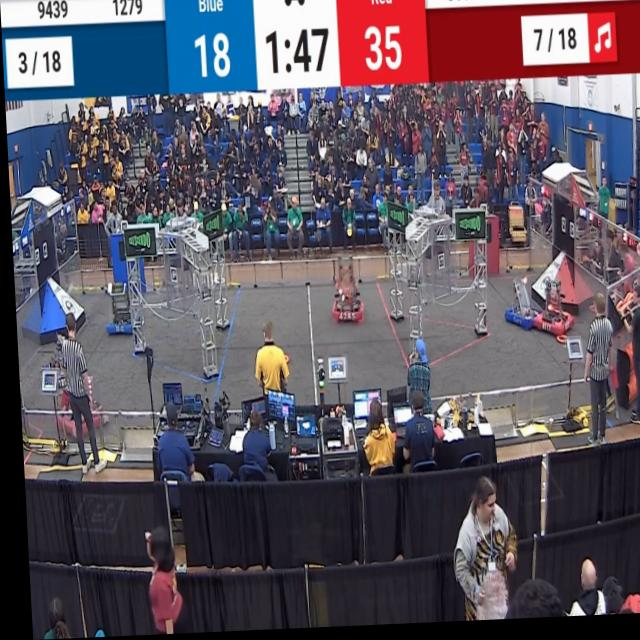Robot: (527, 263, 572, 348), (52, 372, 102, 434), (325, 257, 362, 332), (99, 278, 136, 341), (500, 273, 535, 338)
